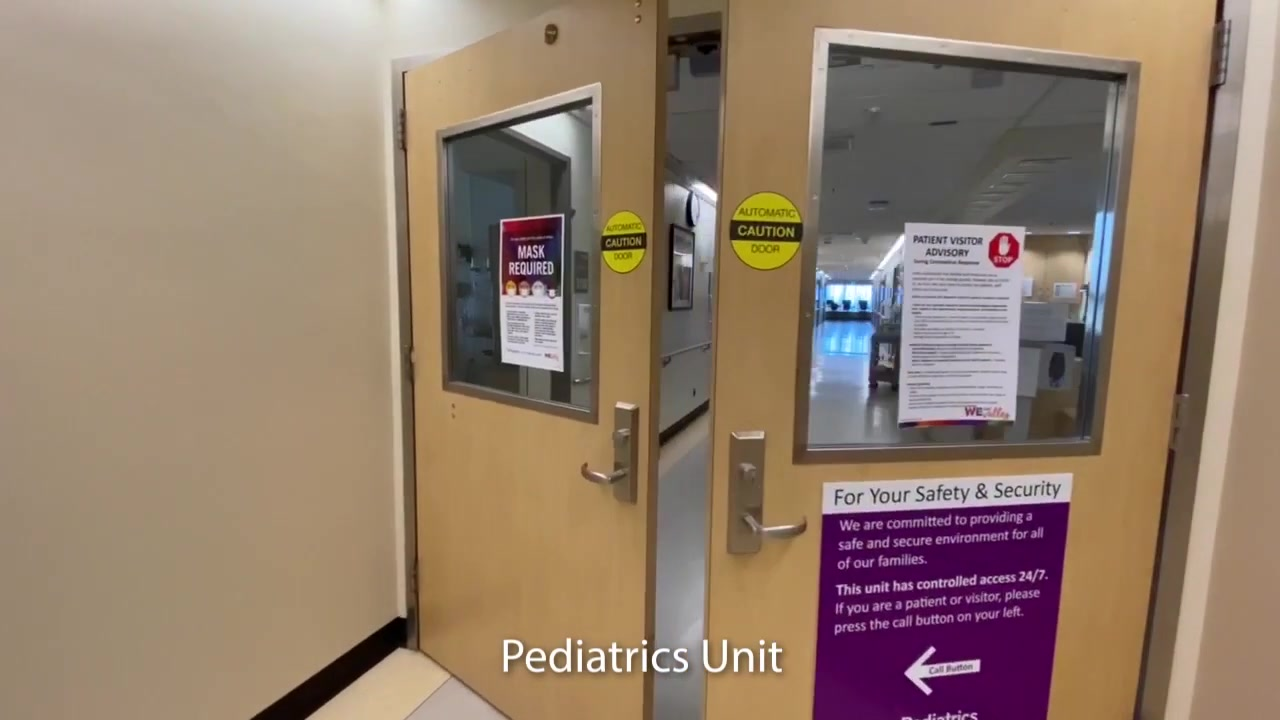dispenser: (1035, 339, 1075, 404)
door_handle: (729, 424, 810, 553), (578, 413, 636, 511)
hallway_assist_bar: (662, 341, 712, 366)
utility_cart: (868, 324, 900, 392)
